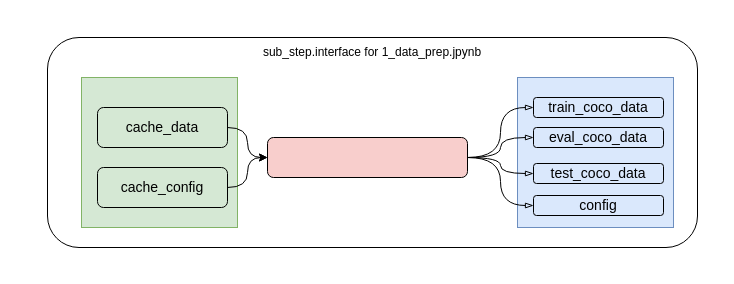
The diagram is 734 pixels wide and 284 high, and some of its shapes have lost their labels. Here are the shapes that lost their labels. From the top down, the box of each, then its label:
(80, 76, 238, 228): tmp_inputs
(266, 136, 468, 178): 1_data_prep.jpynb
(516, 76, 674, 228): outputs
